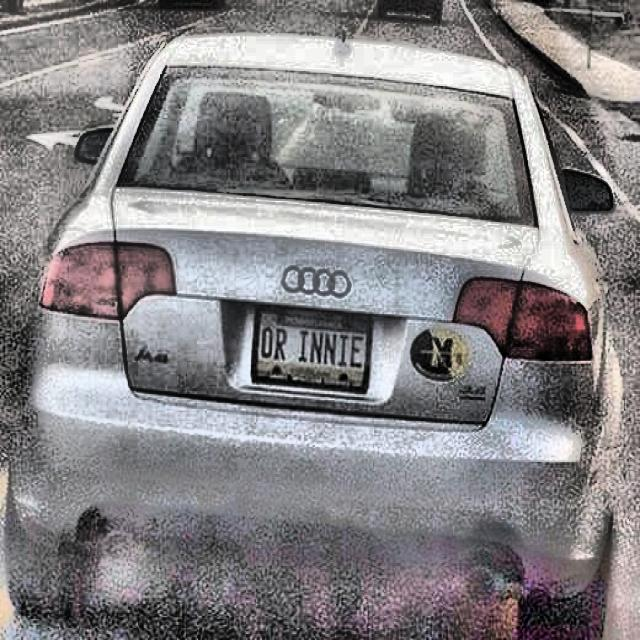license_plate: (252, 305, 371, 394)
